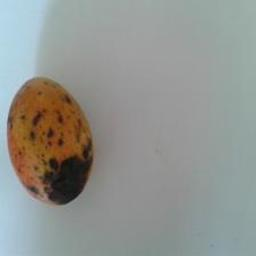Mango Rotten: (2, 63, 100, 214)
